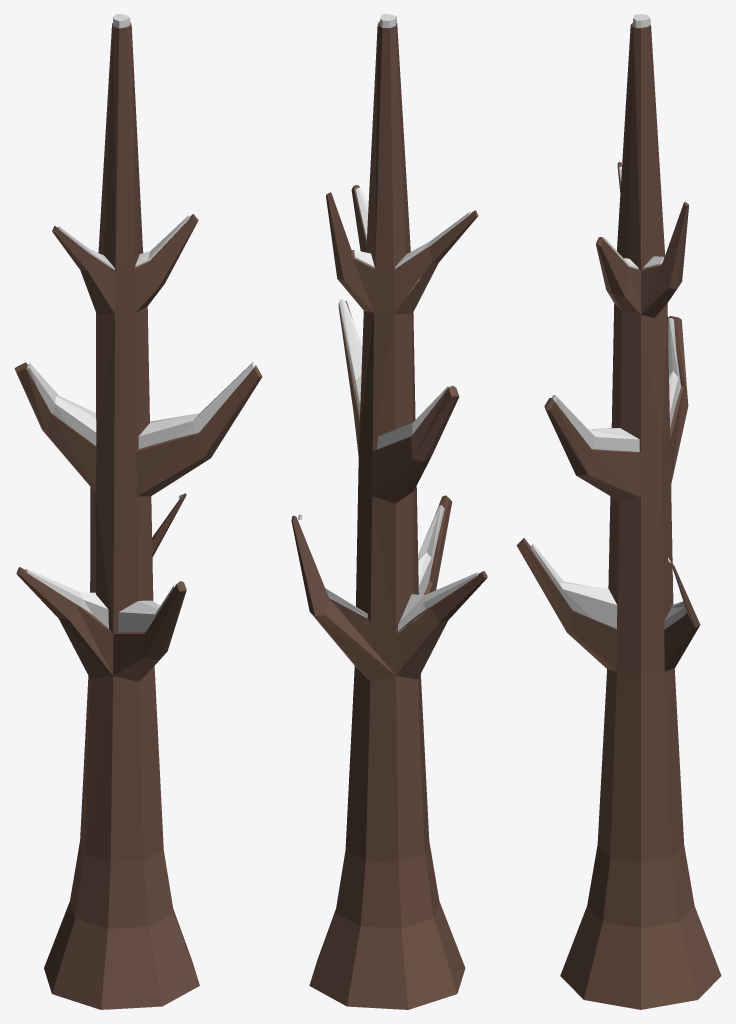
The model's file is tall_deciduous_tree_snow.obj.
3 views of the same model, side by side, from view 1: azimuth 30°, elevation 25°; view 2: azimuth 150°, elevation 25°; view 3: azimuth 270°, elevation 25° (orthographic).
Visible parts, largest first — view 1: Tall_deciduous_tree_snow; view 2: Tall_deciduous_tree_snow; view 3: Tall_deciduous_tree_snow.
Part boxes in pixels (bbox=[...]): Tall_deciduous_tree_snow: bbox=[14, 14, 262, 1009]; Tall_deciduous_tree_snow: bbox=[291, 14, 487, 1009]; Tall_deciduous_tree_snow: bbox=[516, 14, 721, 1009].
Bounding box in the file's own units: 0.5845 × 2.72 × 0.5281.
1 material, 1 textured.
